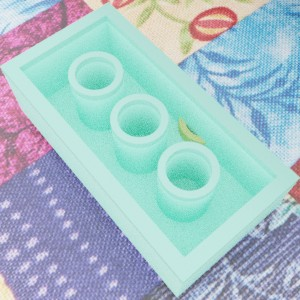lego: (0, 2, 299, 297), (171, 99, 232, 159)
